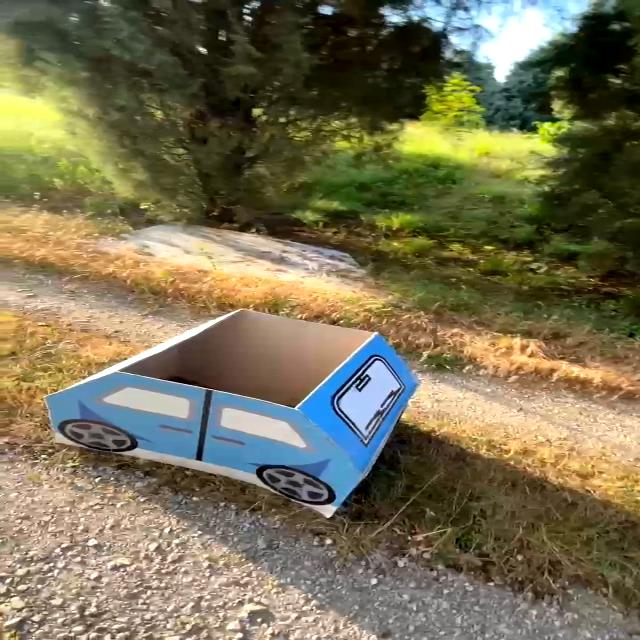blue_car: (0, 282, 484, 559)
